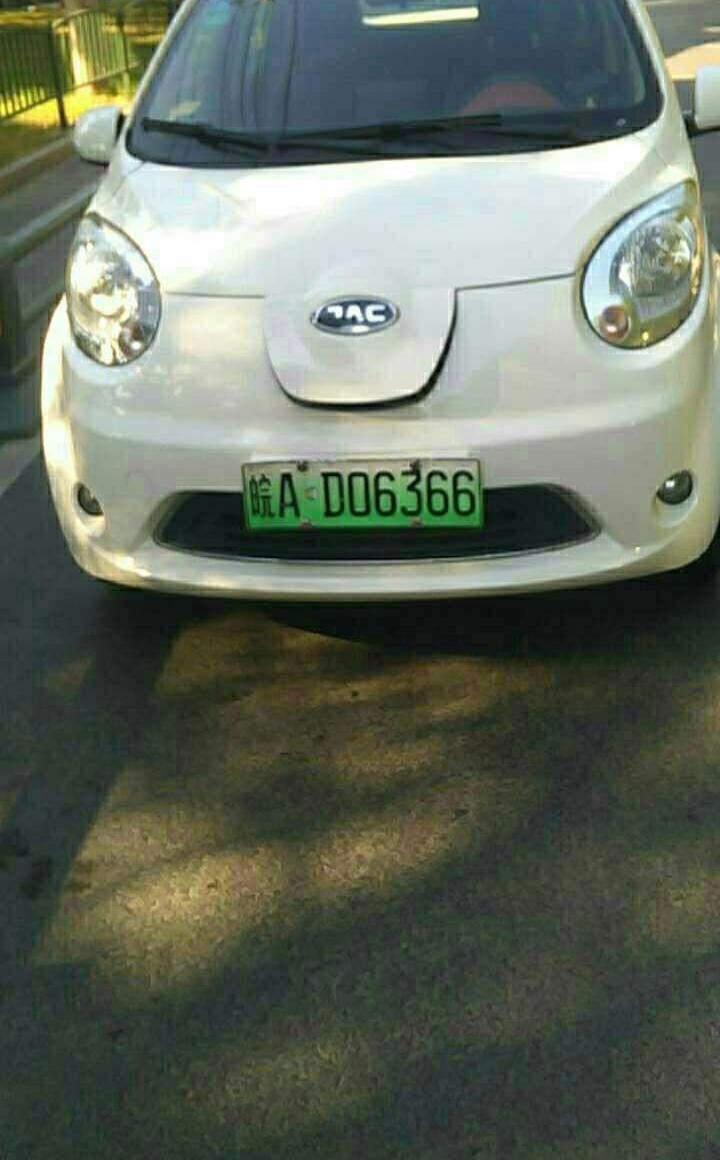car_id: (236, 461, 478, 531)
